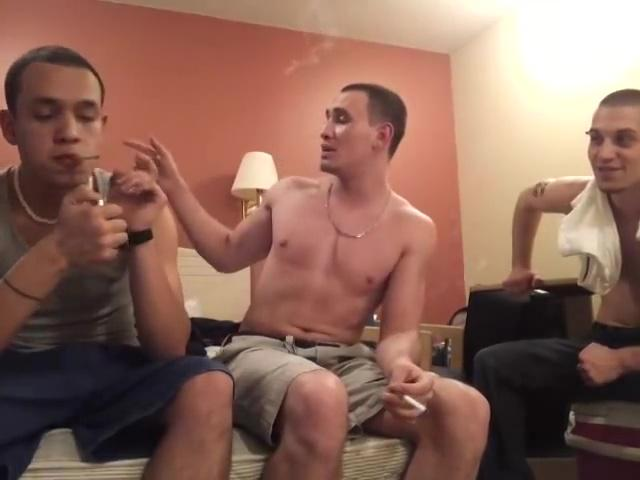cigarette: (401, 392, 427, 415), (72, 151, 104, 165)
